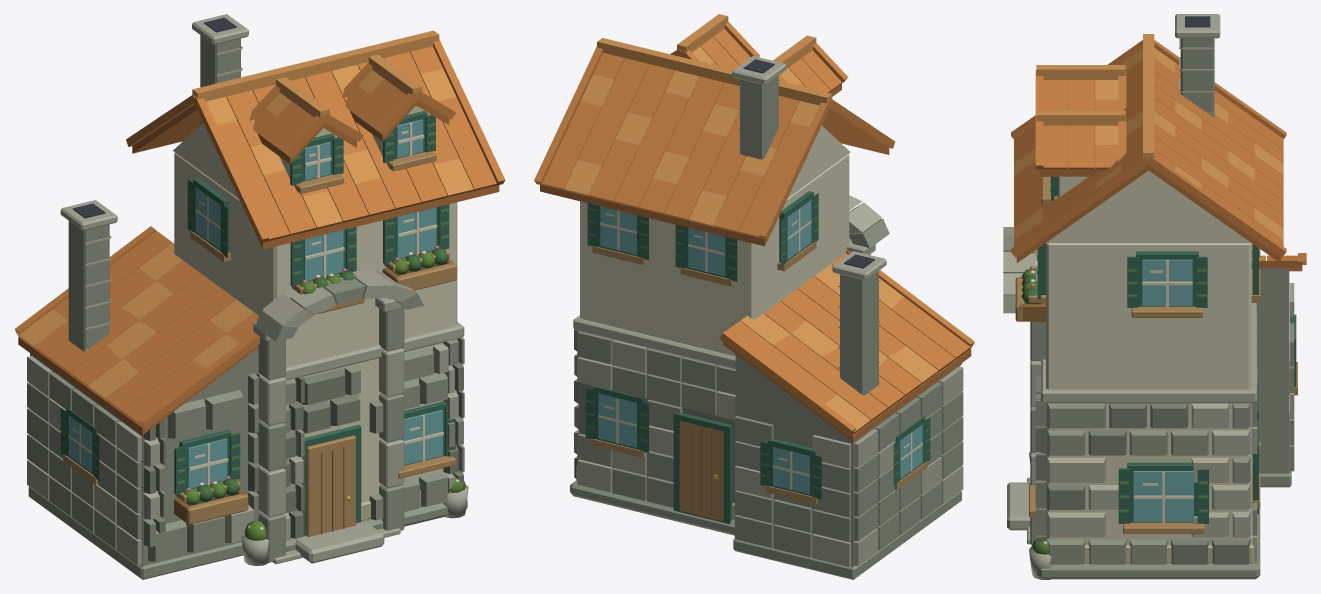
Rendered from master_farmhouse_b.glb.
3 views of the same model, side by side, from view 1: azimuth 30°, elevation 25°; view 2: azimuth 150°, elevation 25°; view 3: azimuth 270°, elevation 25° (orthographic). The views are drawn at different scales.
Parts seen in each view (by area): view 1: master_farmhouse_b; view 2: master_farmhouse_b; view 3: master_farmhouse_b.
Boxes of the visible parts, left/top/right/bottom form: master_farmhouse_b: left=14, top=14, right=505, bottom=579; master_farmhouse_b: left=534, top=14, right=974, bottom=579; master_farmhouse_b: left=1003, top=14, right=1306, bottom=579.
Size of the model in its own units: 3.2 by 4.19 by 2.42.
